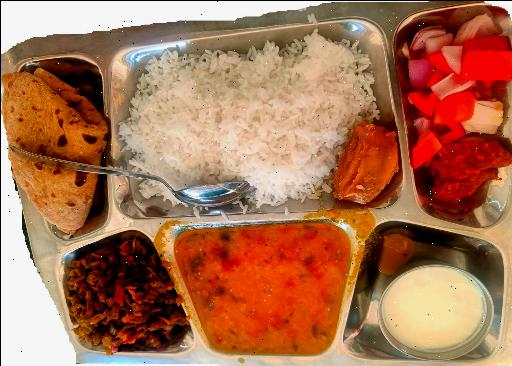Curd: (370, 254, 504, 360)
Dal: (183, 225, 338, 352)
Pickle: (429, 140, 512, 217)
Rice: (111, 52, 398, 204)
Roti: (0, 59, 105, 228)
Salad: (403, 15, 508, 132)
Sweet: (334, 122, 406, 206)
Vegetable: (60, 241, 172, 355)
